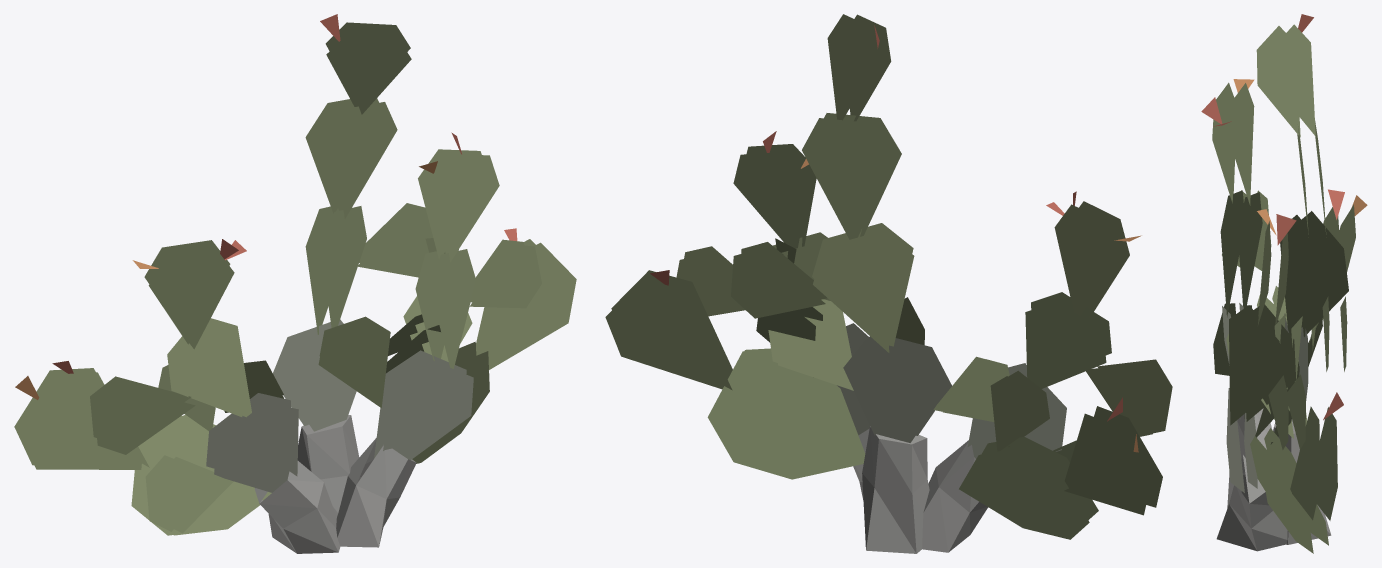
Rendered from cactus_1.lod.glb.
3 renders of one model, left to right at view 1: azimuth 30°, elevation 25°; view 2: azimuth 150°, elevation 25°; view 3: azimuth 270°, elevation 25°, orthographic. The views are drawn at different scales.
Visible parts, largest first — view 1: cactus_1; view 2: cactus_1; view 3: cactus_1.
Boxes of the visible parts, x1=… form: cactus_1: x1=14, y1=14, x2=576, y2=553; cactus_1: x1=605, y1=14, x2=1172, y2=553; cactus_1: x1=1201, y1=14, x2=1367, y2=553.
Size of the model in its own units: 1.8 by 1.57 by 0.4523.
